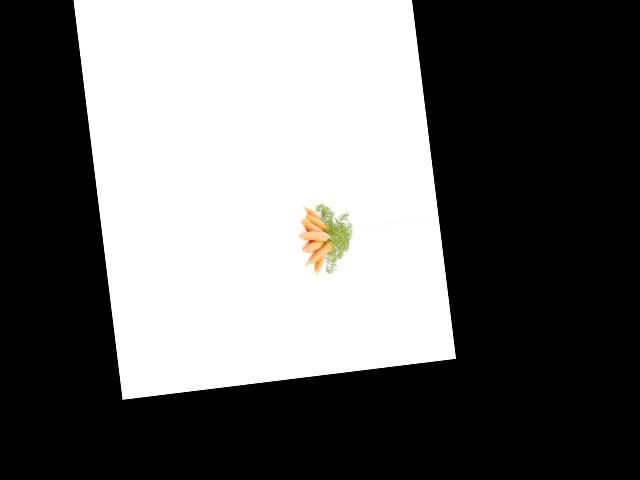carrot: (309, 249, 329, 274)
